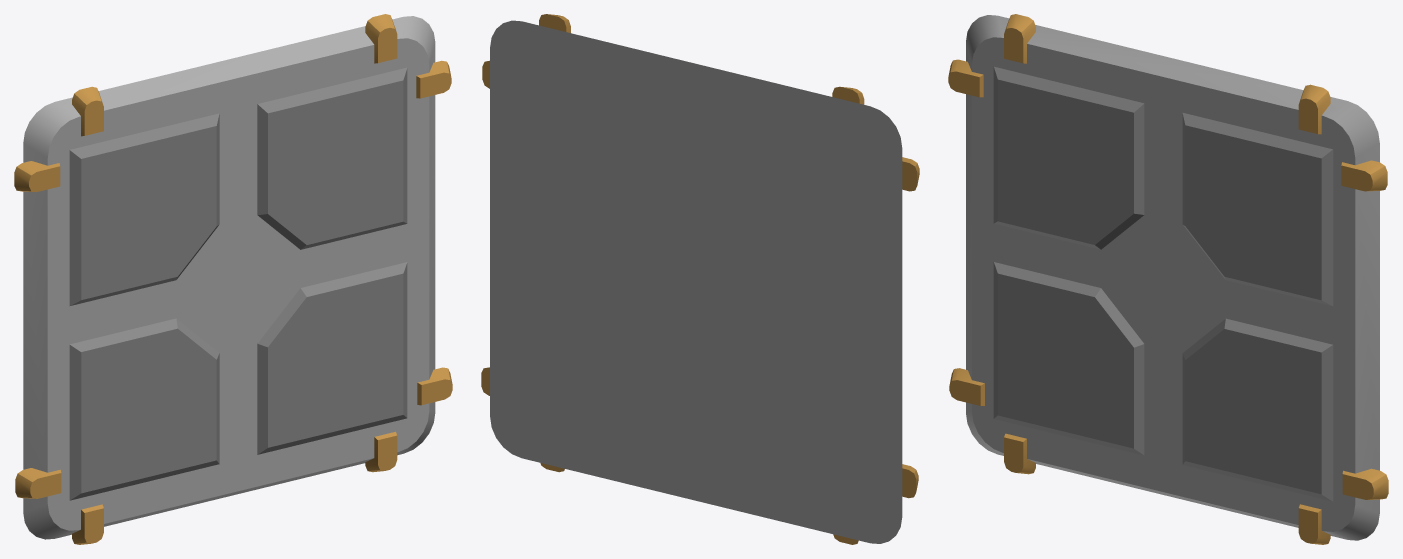
The model's file is Details_Plate_Details.gltf.
The picture shows the model from 3 angles, left to right: view 1: azimuth 30°, elevation 25°; view 2: azimuth 150°, elevation 25°; view 3: azimuth 330°, elevation 25°; orthographic projection.
Visible parts, largest first — view 1: Details_Plate_Details; view 2: Details_Plate_Details; view 3: Details_Plate_Details.
Boxes of the visible parts, box(x1,y1,x2,y2) form: Details_Plate_Details: box(14, 14, 452, 544); Details_Plate_Details: box(481, 14, 919, 544); Details_Plate_Details: box(948, 14, 1388, 544).
Size of the model in its own units: 0.6199 by 0.6199 by 0.0321.
